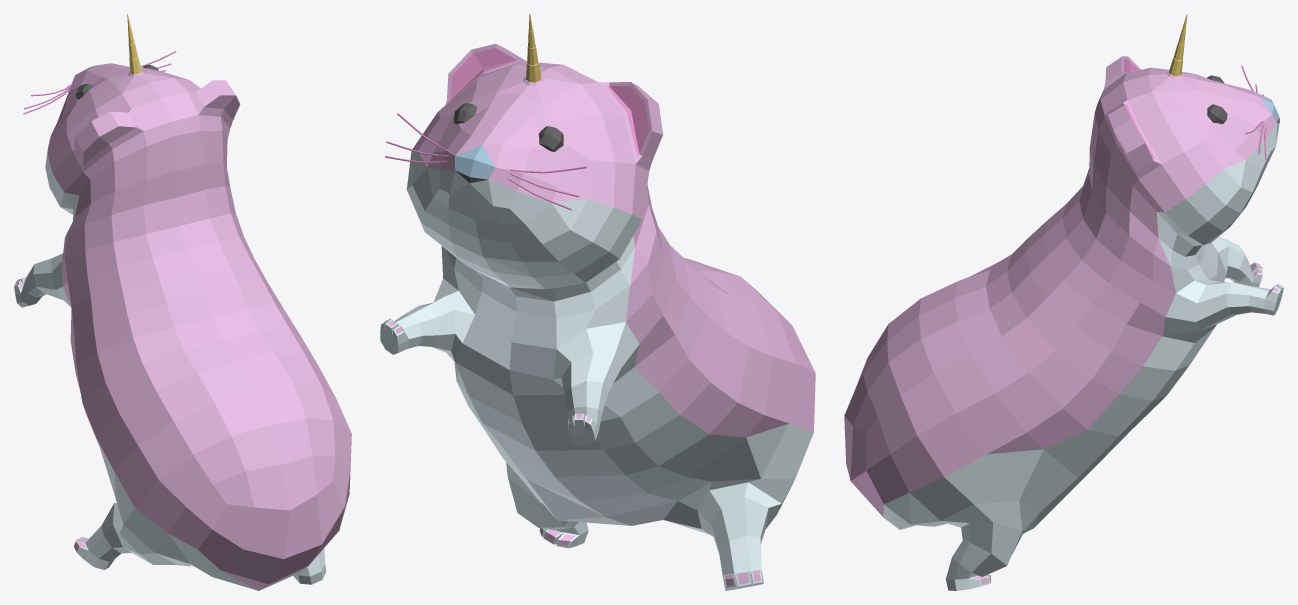
File: ChomikWKuli.fbx
3 views of the same model, side by side, from view 1: azimuth 30°, elevation 25°; view 2: azimuth 150°, elevation 25°; view 3: azimuth 270°, elevation 25° (orthographic). The views are drawn at different scales.
Visible parts, largest first — view 1: Chomik.001; view 2: Chomik.001; view 3: Chomik.001.
Part boxes in pixels (x1,y1,x2,y2): Chomik.001: (14,14,351,590); Chomik.001: (380,14,815,590); Chomik.001: (844,14,1283,590).
Size of the model in its own units: 278 by 599 by 444.
